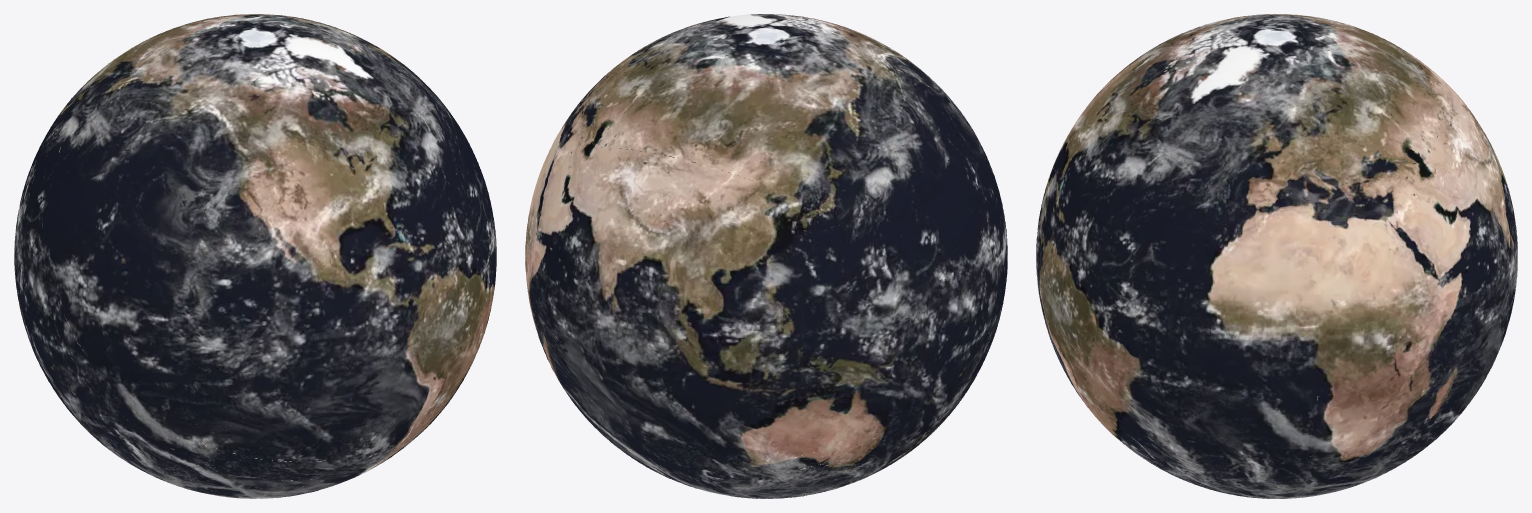
Rendered from erath-transformed.glb.
3 views of the same model, side by side, from view 1: azimuth 30°, elevation 25°; view 2: azimuth 150°, elevation 25°; view 3: azimuth 270°, elevation 25° (orthographic).
Parts seen in each view (by area): view 1: Earth; view 2: Earth; view 3: Earth.
Boxes of the visible parts, bbox=[...] form: Earth: bbox=[14, 14, 496, 498]; Earth: bbox=[525, 14, 1007, 498]; Earth: bbox=[1036, 14, 1517, 498].
Size of the model in its own units: 0.3852 by 0.3883 by 0.3852.
1 material, 1 textured.
